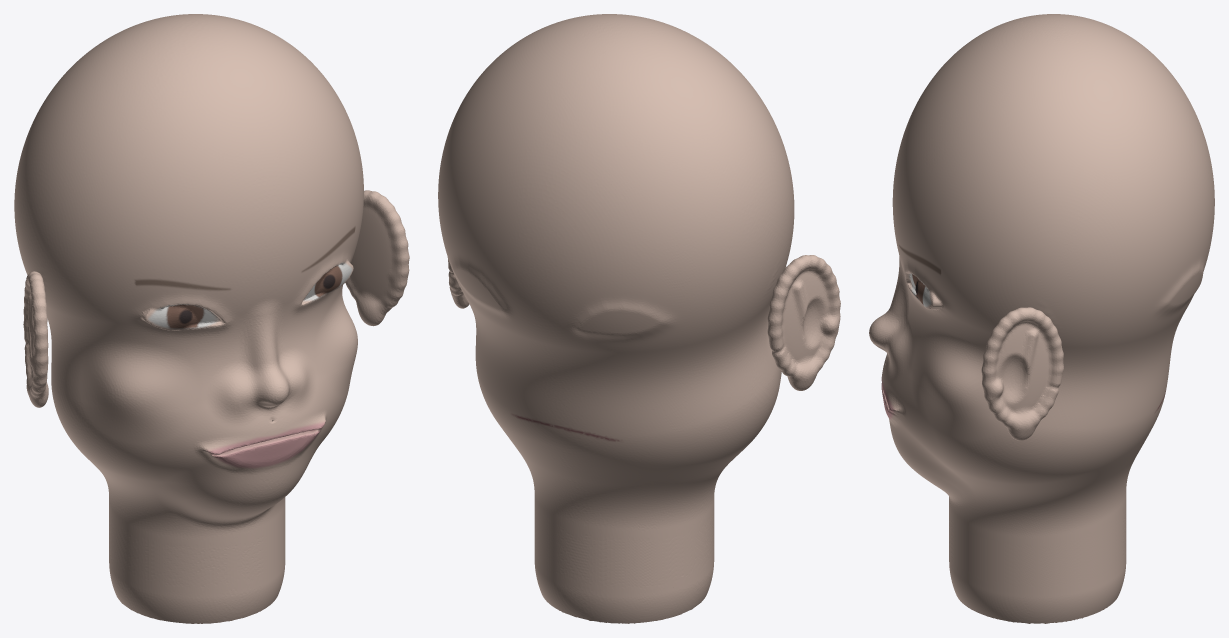
The model's file is karma_face_stage1_N_neutral_EXPERIMENT.glb.
3 renders of one model, left to right at view 1: azimuth 30°, elevation 25°; view 2: azimuth 150°, elevation 25°; view 3: azimuth 270°, elevation 25°, orthographic.
Visible parts, largest first — view 1: head; view 2: head; view 3: head.
Part boxes in pixels (left/top/right/bottom): head: left=14, top=14, right=409, bottom=623; head: left=438, top=14, right=840, bottom=623; head: left=869, top=14, right=1214, bottom=623.
Bounding box in the file's own units: 2.7 × 3.83 × 2.15.
